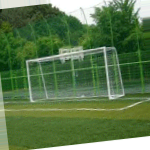goals: (24, 44, 128, 105)
